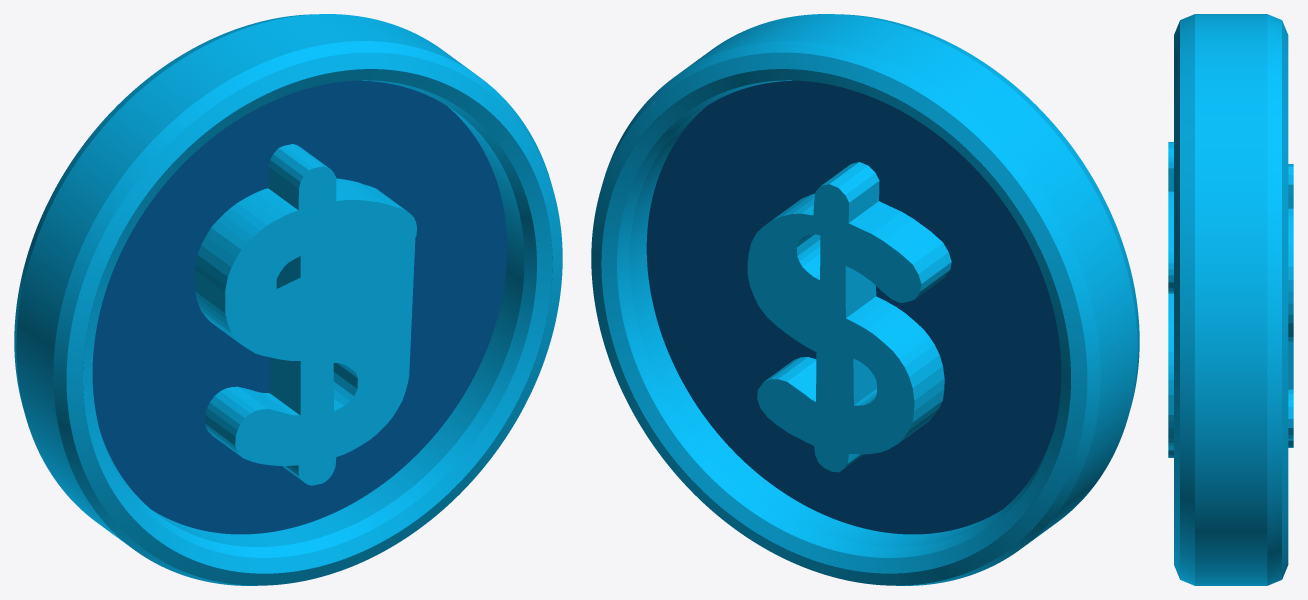
The model's file is Three DimensionalCoin.fbx.
The picture shows the model from 3 angles, left to right: view 1: azimuth 30°, elevation 25°; view 2: azimuth 150°, elevation 25°; view 3: azimuth 270°, elevation 25°; orthographic projection. The views are drawn at different scales.
Parts seen in each view (by area): view 1: Cylinder; view 2: Cylinder; view 3: Cylinder.
Part boxes in pixels (x1,y1,x2,y2): Cylinder: (14, 14, 562, 585); Cylinder: (591, 14, 1139, 585); Cylinder: (1168, 14, 1293, 585).
Bounding box in the file's own units: 342 × 342 × 75.19.
